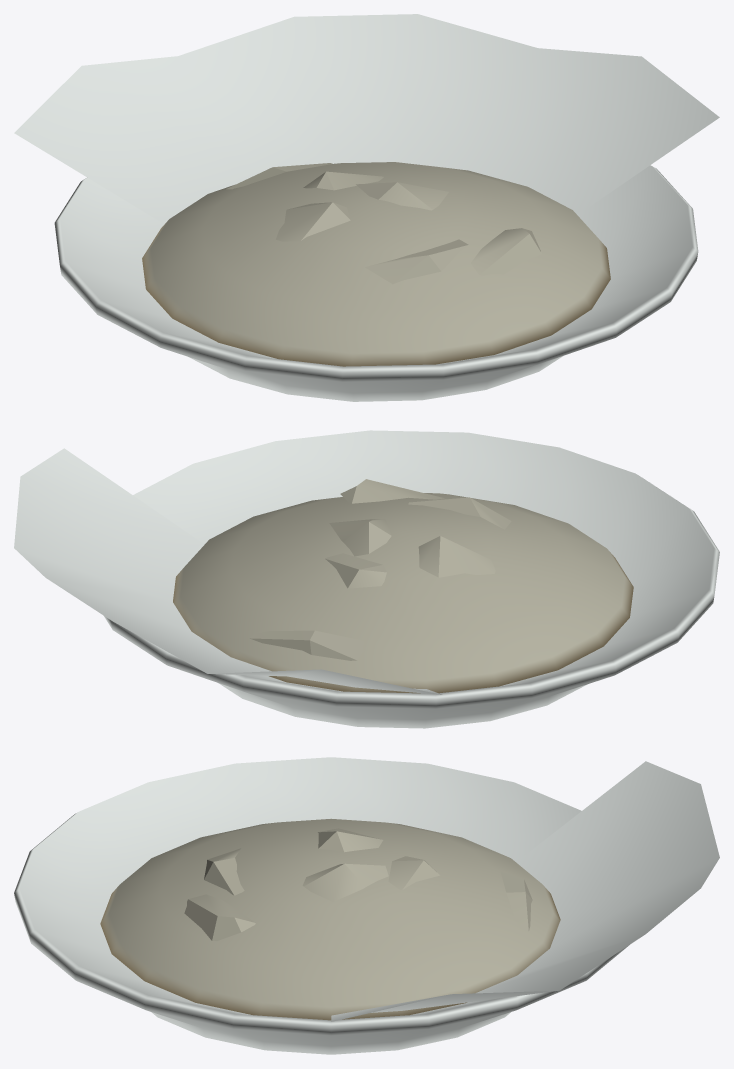
The picture shows the model from 3 angles, top to bottom: view 1: azimuth 30°, elevation 25°; view 2: azimuth 150°, elevation 25°; view 3: azimuth 270°, elevation 25°; orthographic projection. The views are drawn at different scales.
Parts seen in each view (by area): view 1: G:\FFXIV-MapTools\exports\y6f3\bg\ex5\02_ykt_y6\fld\y6f3\bgp (×3); view 2: G:\FFXIV-MapTools\exports\y6f3\bg\ex5\02_ykt_y6\fld\y6f3\bgp (×3); view 3: G:\FFXIV-MapTools\exports\y6f3\bg\ex5\02_ykt_y6\fld\y6f3\bgp (×3).
Boxes of the visible parts, x1,y1,x2,y2 form: G:\FFXIV-MapTools\exports\y6f3\bg\ex5\02_ykt_y6\fld\y6f3\bgp (×3): (14, 14, 719, 401); G:\FFXIV-MapTools\exports\y6f3\bg\ex5\02_ykt_y6\fld\y6f3\bgp (×3): (14, 430, 719, 728); G:\FFXIV-MapTools\exports\y6f3\bg\ex5\02_ykt_y6\fld\y6f3\bgp (×3): (14, 757, 719, 1054).
Size of the model in its own units: 0.5623 by 0.1136 by 0.5623.
